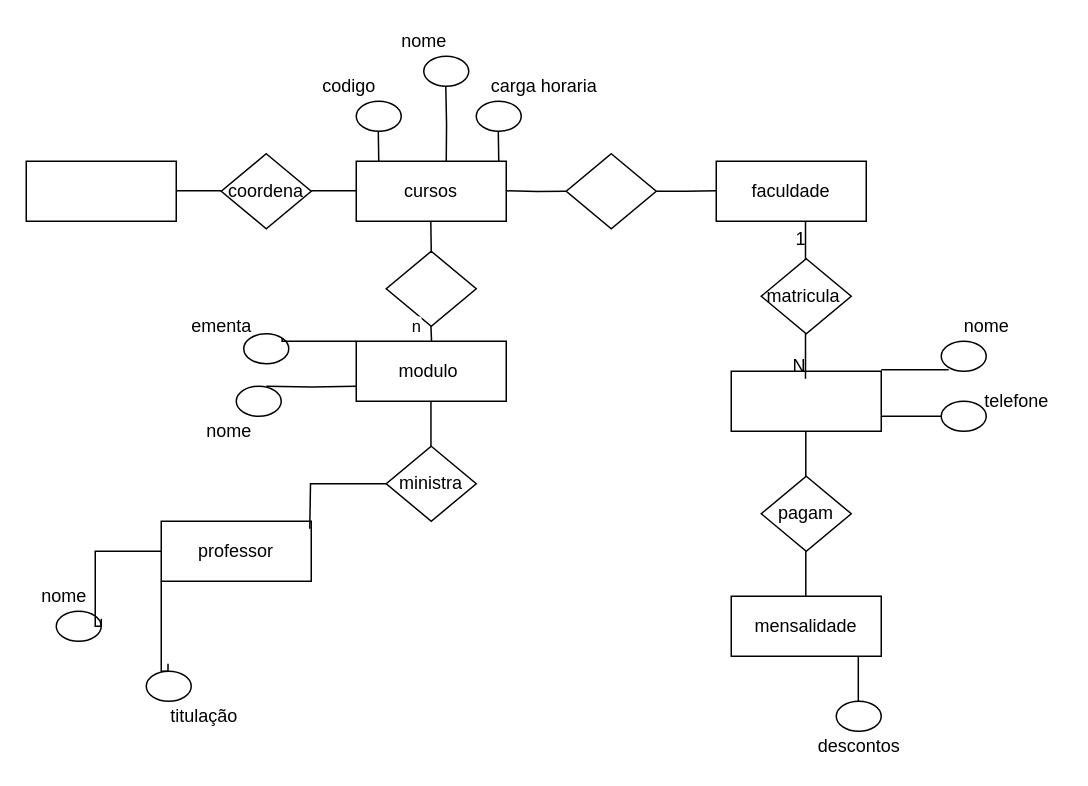
This 1088x786 diagram has some shape labels left out. Here are the shapes that lost their labels. From the top down, the box of each, then its label:
(25, 160, 176, 221): coordenador
(565, 152, 656, 229): oferece
(385, 250, 476, 326): composto
(730, 370, 881, 431): alunos
